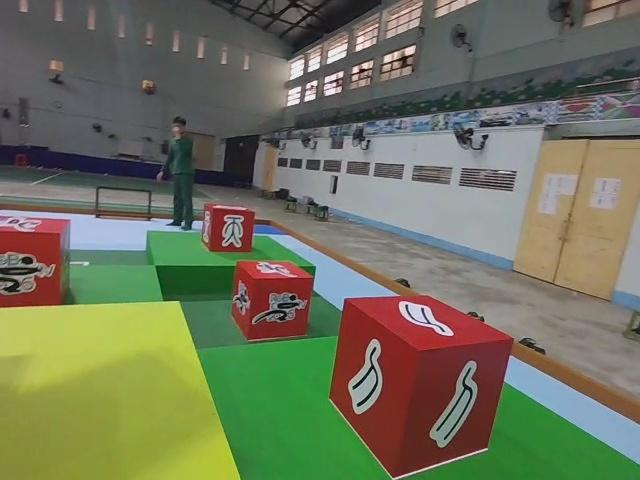R1: (227, 257, 315, 348), (0, 212, 74, 311)
R2 Fake: (203, 200, 255, 256)
R2 Real: (331, 291, 516, 480)
